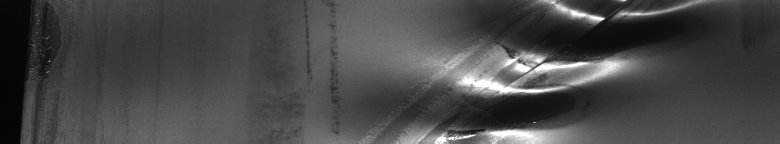ke: (421, 4, 702, 136)
